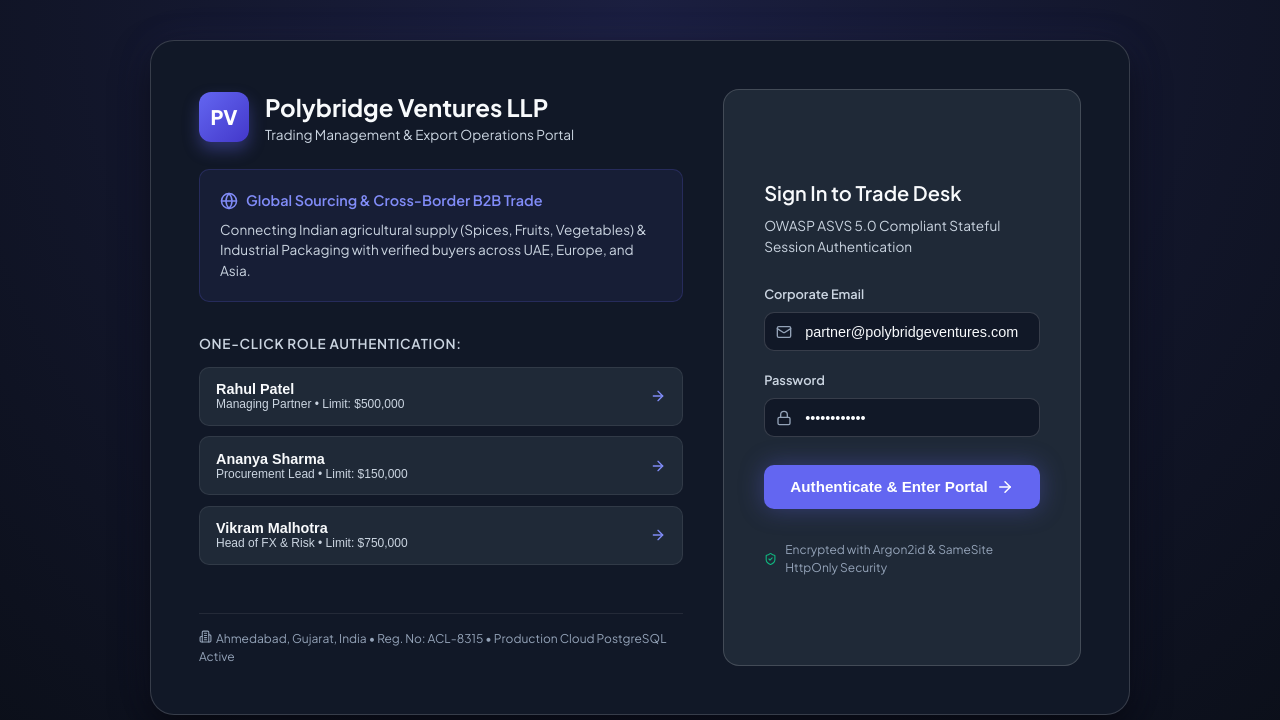
Test: App Component › Authenticates and opens Trading Operations Portal upon login
This screenshot has width=1280, height=720.
Click the text "Rahul Patel" at [255, 389], box [216,381,294,397]
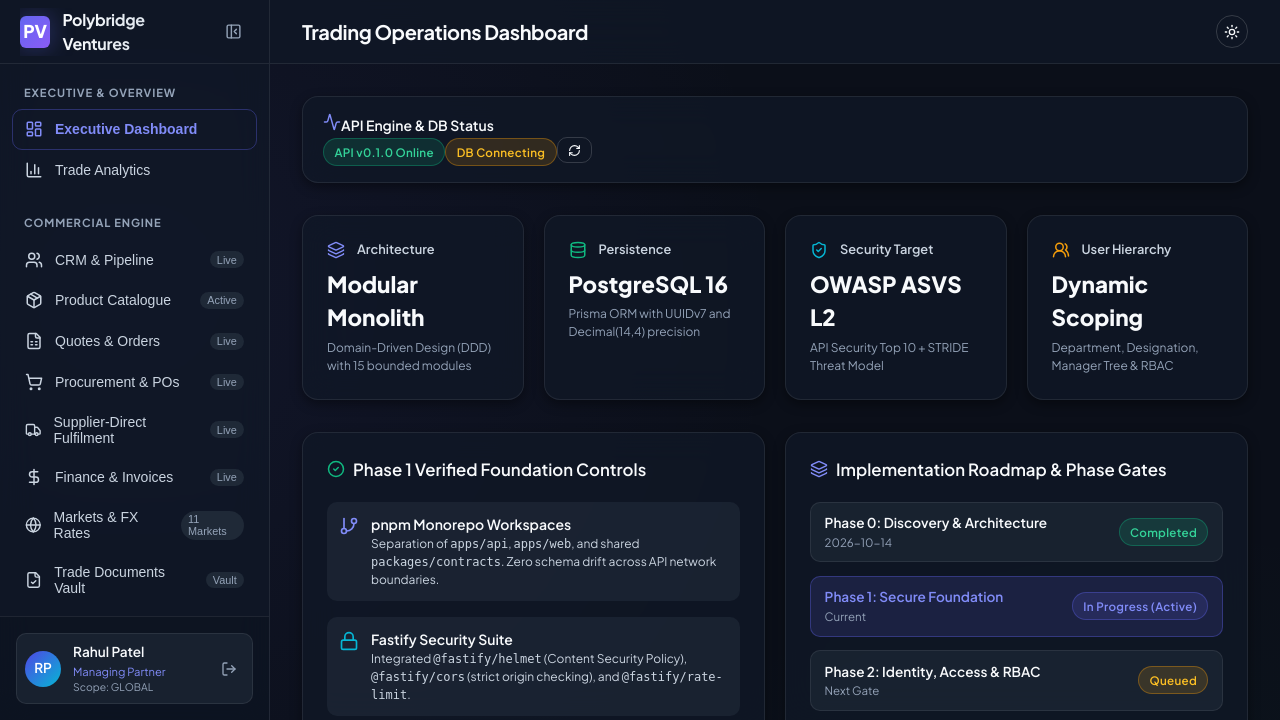
Expected: the text "Polybridge Ventures" is shown, [62,8,207,56]
Expected: the heading "Trading Operations Dashboard" is shown, [302,16,588,46]
Expected: the text "Executive Dashboard" is shown, [55,121,197,137]
